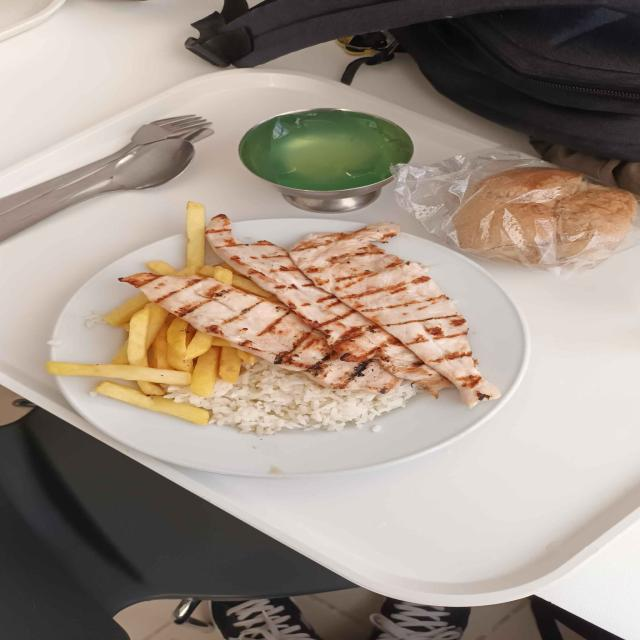bread: (443, 168, 637, 266)
fork: (0, 115, 211, 215)
french fries: (47, 292, 255, 424), (136, 202, 269, 299)
gelatin: (239, 108, 413, 212)
grilled steak: (122, 215, 499, 407)
plate: (46, 203, 524, 477)
rice: (167, 359, 416, 436)
spoon: (0, 136, 194, 242)
